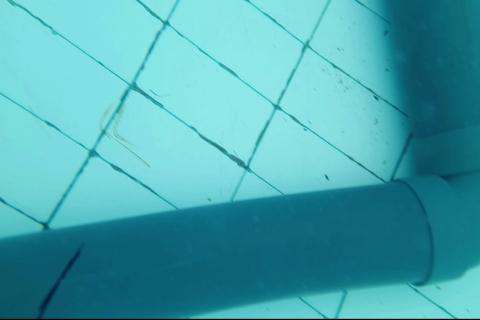keretakan: (35, 243, 85, 320)
